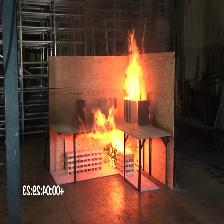fire: (90, 107, 134, 168), (121, 29, 150, 109)
